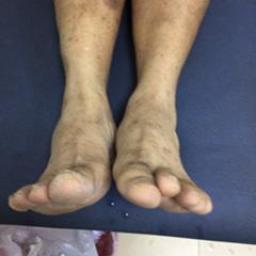Front View -Both Feet-: (5, 48, 220, 234)
